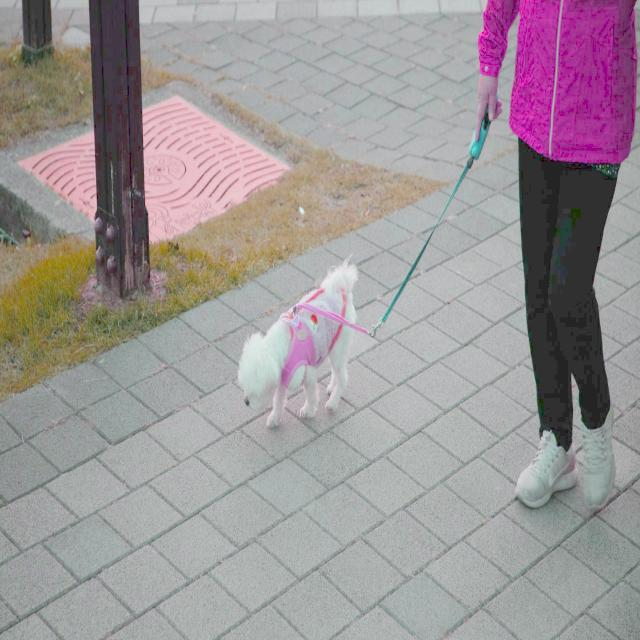Leashed_Dog: (238, 77, 578, 428)
